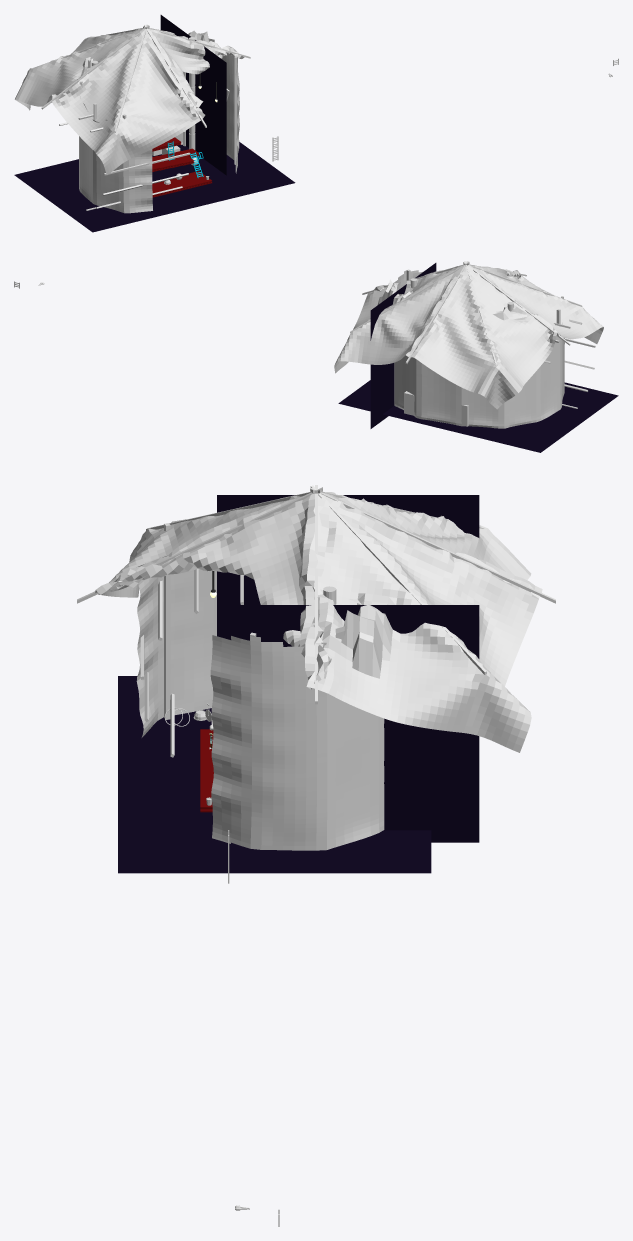
The model's file is Level1.fbx.
3 renders of one model, top to bottom at view 1: azimuth 30°, elevation 25°; view 2: azimuth 150°, elevation 25°; view 3: azimuth 270°, elevation 25°, orthographic. The views are drawn at different scales.
Visible parts, largest first — view 1: Tent, Plane.001, Plane, Plane.003, TentPoll, FloorBlock, Cube, Cube.001, FloorBlock.001, Cylinder.001; view 2: Tent, Plane, Plane.001, Plane.003, TentPoll, Cube; view 3: Tent, Plane, Plane.001, Plane.003, Plane.002, TentPoll, Cube, Cube.001, FloorBlock.
Boxes of the visible parts, x1,y1,x2,y2 form: Tent: (15,28,244,174); Plane.001: (14,142,295,232); Plane: (79,38,239,213); Plane.003: (160,15,226,175); TentPoll: (33,24,250,132); FloorBlock: (152,171,212,197); Cube: (59,114,189,210); Cube.001: (79,46,237,164); FloorBlock.001: (152,155,194,171); Cylinder.001: (189,37,195,149); Tent: (334,265,603,409); Plane: (394,270,564,428); Plane.001: (338,380,618,452); Plane.003: (370,263,436,428); TentPoll: (350,261,582,365); Cube: (544,319,595,408); Tent: (95,492,542,752); Plane: (136,498,384,850); Plane.001: (118,676,431,873); Plane.003: (217,605,479,842); Plane.002: (217,495,479,604); TentPoll: (77,485,555,704); Cube: (140,569,243,757); Cube.001: (164,523,326,719); FloorBlock: (200,729,213,812).
Size of the model in its own units: 9950 by 2534 by 3652.
